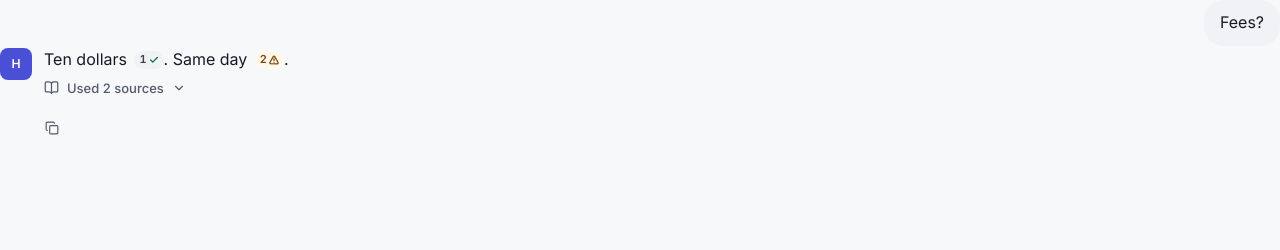
Scenario: chat citation checks › applies citations_checked in place: a check on verified citations, a warning with an explanation on the others
Click the button "Used 2 sources" at point(115, 88), box x1=36 y1=72 x2=194 y2=104
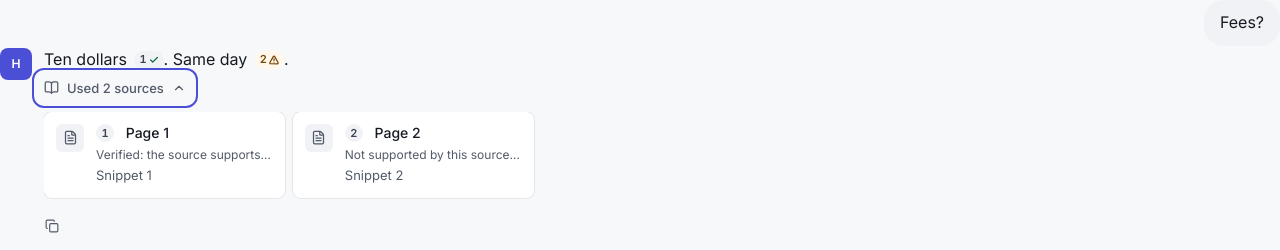
Result: the text "Not supported by this source (92% confidence)" is shown at x1=345 y1=145 x2=522 y2=164
